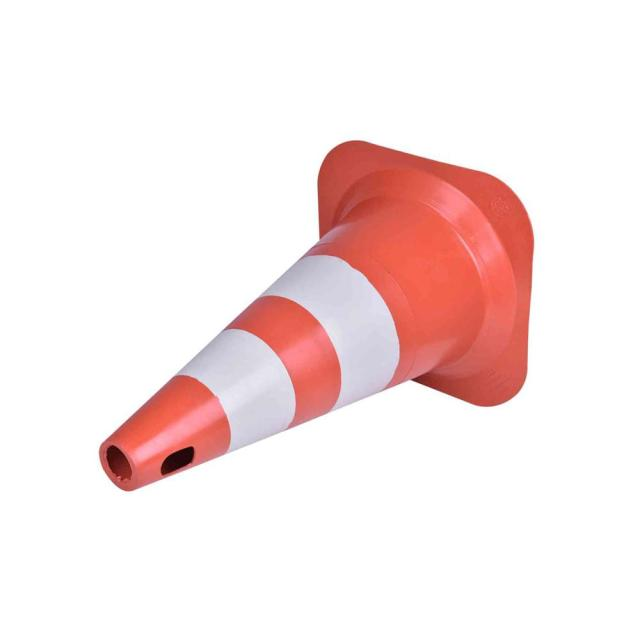cone: (99, 142, 538, 509)
